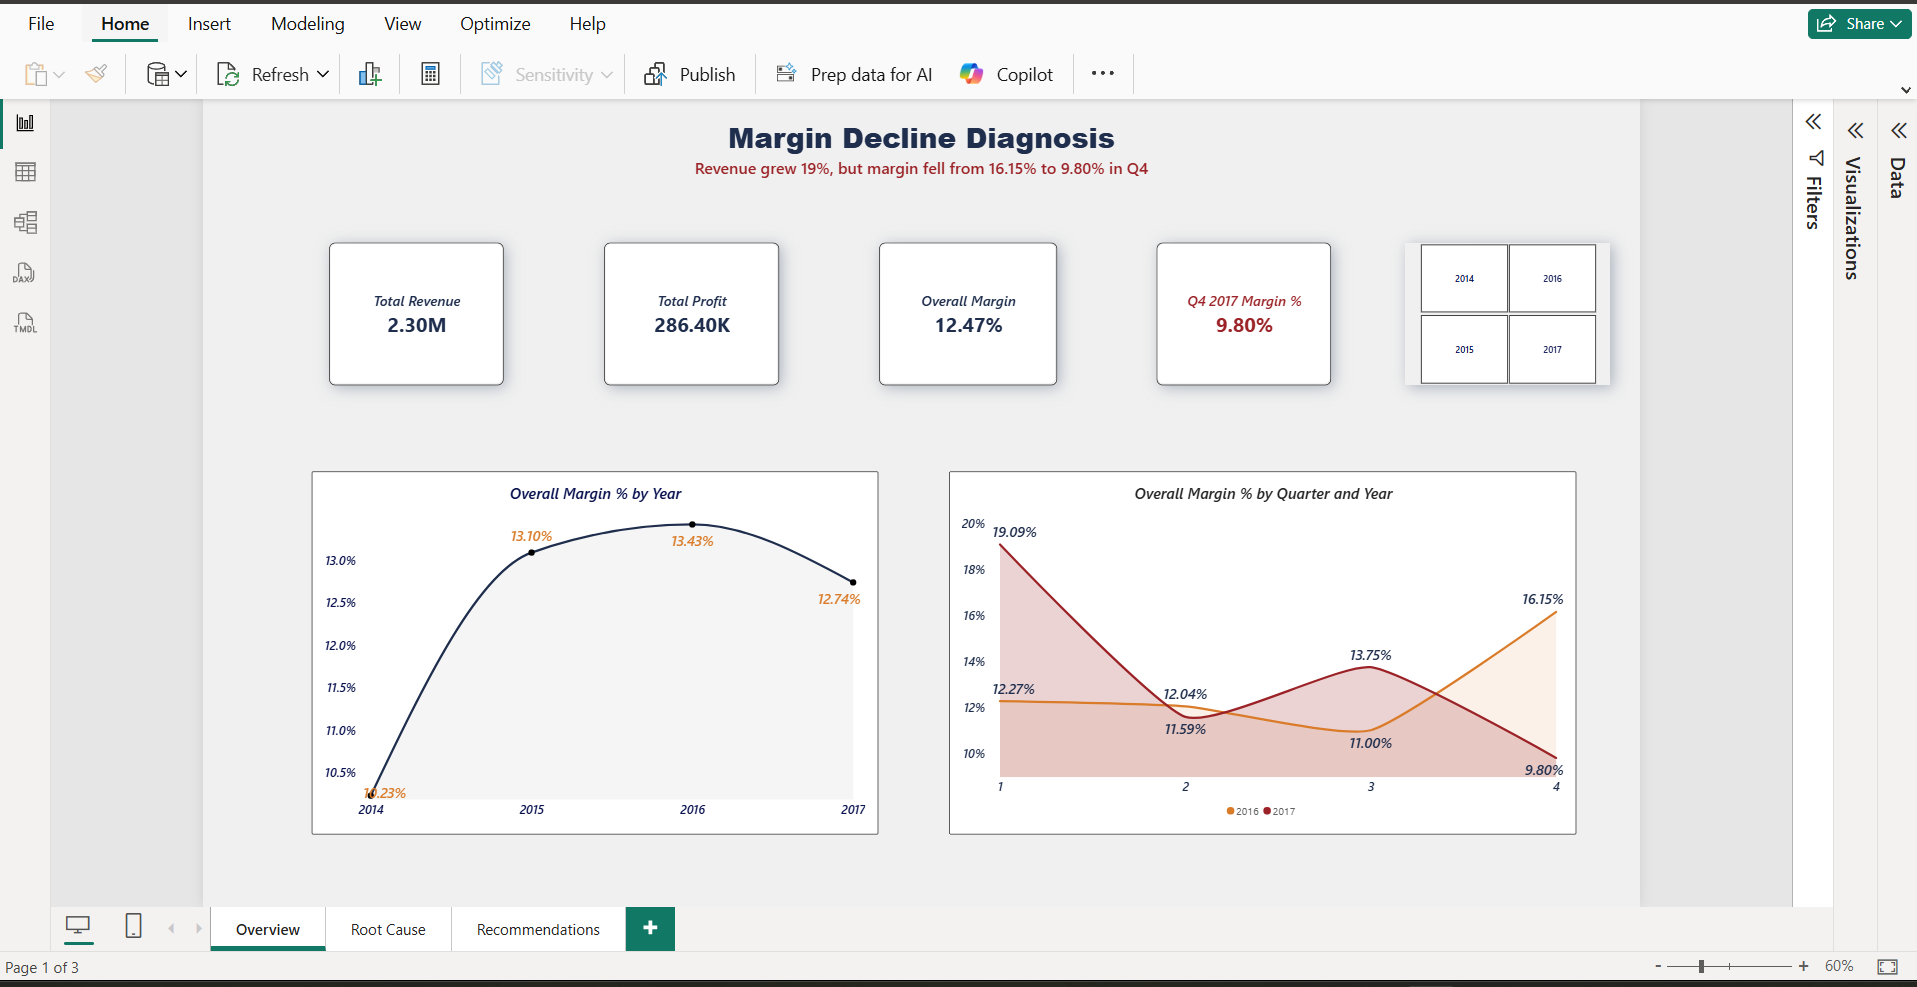

This screenshot's page, from the dashboard's own definition file:
{"tool":"powerbi","page":{"name":"Overview","canvas":[1920,1080],"ordinal":0},"visuals":[{"type":"cardVisual","fields":{"Data":["superstore_cleaned.Total Profit"]},"box":[535.3,191.8,233.7,190.2],"z":0},{"type":"cardVisual","fields":{"Data":["superstore_cleaned.Total Revenue"]},"box":[168.3,191.8,233,190.2],"z":1000},{"type":"cardVisual","title":"Overall Margin %","fields":{"Data":["superstore_cleaned.Margin %"]},"box":[903,191.8,237.3,190.2],"z":2000},{"type":"cardVisual","title":"Q4 2017 Margin%","fields":{"Data":["superstore_cleaned.Q4 2017 Margin %"]},"box":[1274.4,191.8,233,190.2],"z":3000},{"type":"textbox","box":[539.9,25.4,840.6,83.3],"z":4000},{"type":"slicer","fields":{"Values":["superstore_cleaned.Year"]},"box":[1607,191.8,273.3,190],"z":5000},{"type":"lineChart","fields":{"Category":["superstore_cleaned.Year"],"Y":["superstore_cleaned.Overall Margin %"]},"box":[144.8,497.7,756.4,485],"z":6000},{"type":"lineChart","fields":{"Category":["superstore_cleaned.Quarter"],"Y":["superstore_cleaned.Overall Margin %"],"Series":["superstore_cleaned.Year"]},"box":[997.1,497.7,837.9,485],"z":7000}]}

Visuals, with their boxes on the page's 1920x1080 design canvas (x1, y1, x2, y2). These are canvas units, not pixel positions in the 1917x987 screenshot, which may show the page scaled, cropped or inside an application window:
cardVisual - superstore_cleaned.Total Profit: <region>535, 192, 769, 382</region>
cardVisual - superstore_cleaned.Total Revenue: <region>168, 192, 401, 382</region>
"Overall Margin %" cardVisual: <region>903, 192, 1140, 382</region>
"Q4 2017 Margin%" cardVisual: <region>1274, 192, 1507, 382</region>
textbox: <region>540, 25, 1380, 109</region>
slicer - superstore_cleaned.Year: <region>1607, 192, 1880, 382</region>
lineChart - superstore_cleaned.Year x superstore_cleaned.Overall Margin %: <region>145, 498, 901, 983</region>
lineChart - superstore_cleaned.Quarter x superstore_cleaned.Overall Margin %: <region>997, 498, 1835, 983</region>
